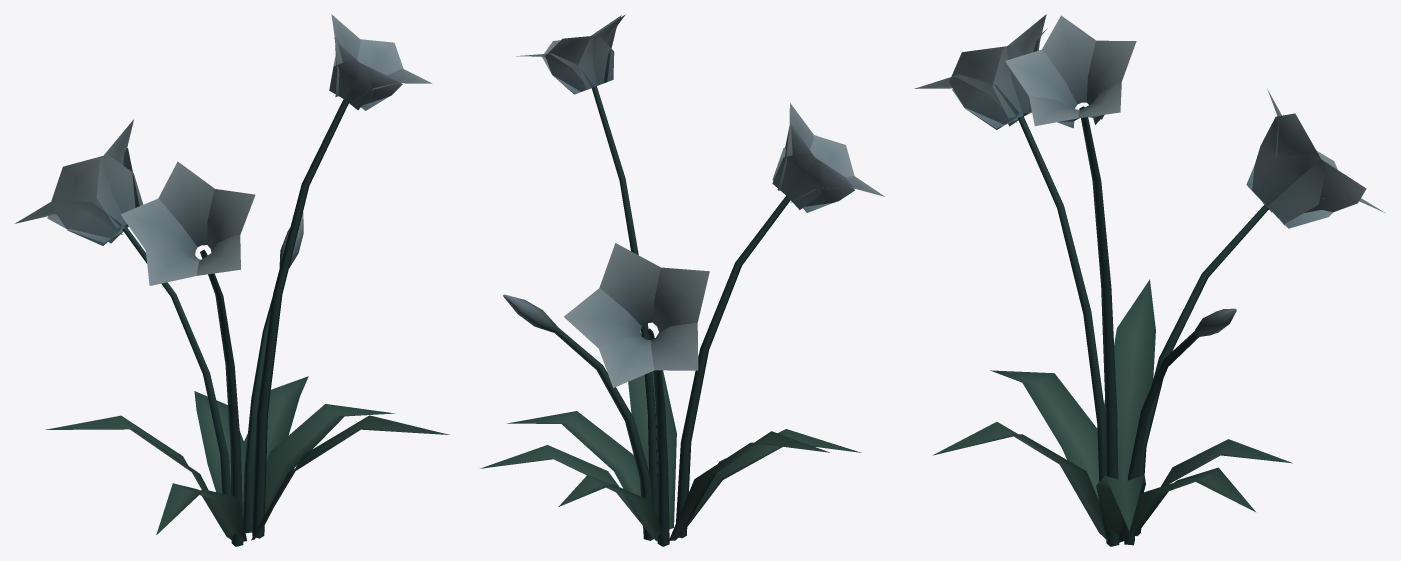
Rendered from flower_lod1.glb.
The picture shows the model from 3 angles, left to right: view 1: azimuth 30°, elevation 25°; view 2: azimuth 150°, elevation 25°; view 3: azimuth 270°, elevation 25°; orthographic projection. The views are drawn at different scales.
Visible parts, largest first — view 1: flower_lod1; view 2: flower_lod1; view 3: flower_lod1.
Boxes of the visible parts, box(x1,y1,x2,y2) form: flower_lod1: box(14, 14, 449, 546); flower_lod1: box(480, 14, 884, 546); flower_lod1: box(914, 14, 1384, 546).
Bounding box in the file's own units: 1.22 × 1.7 × 1.31.
